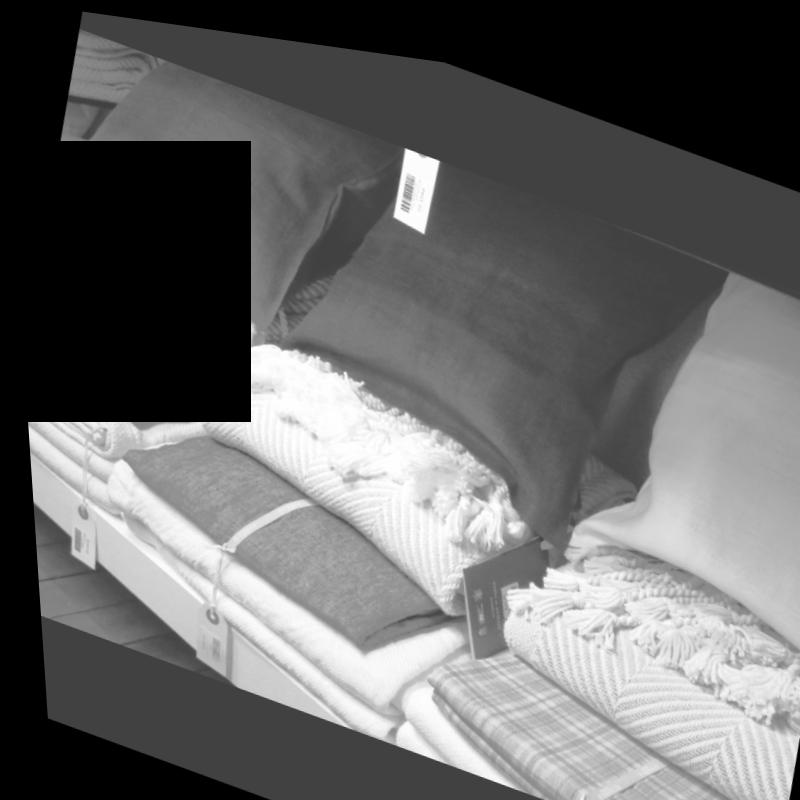pillow: (172, 80, 718, 651), (23, 20, 388, 372), (544, 203, 800, 644)
